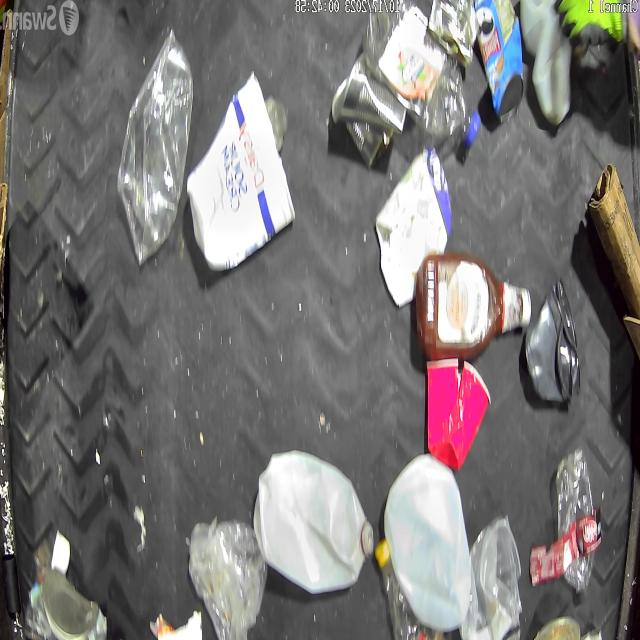can: (331, 54, 408, 170), (428, 0, 478, 59), (528, 616, 604, 640)
milk_jug: (255, 450, 375, 596), (382, 455, 472, 634), (520, 0, 573, 125)
non_white_jug: (416, 254, 532, 362)
plastic_bottle: (363, 0, 481, 145), (553, 451, 600, 595)
